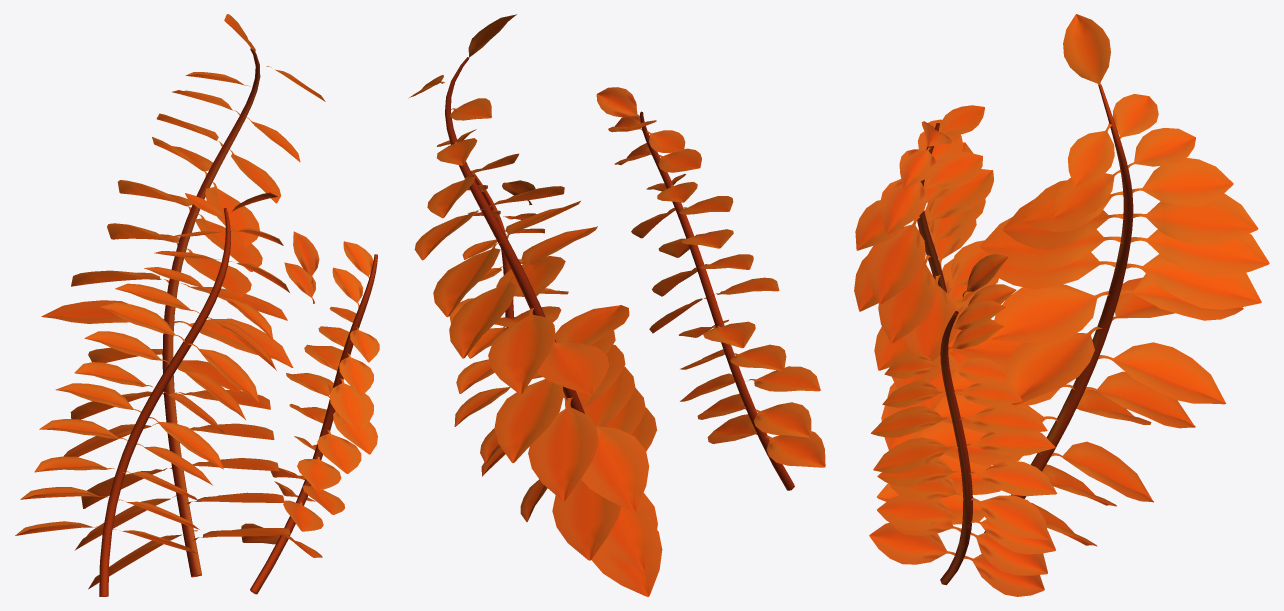
File: Plants_12.fbx
3 views of the same model, side by side, from view 1: azimuth 30°, elevation 25°; view 2: azimuth 150°, elevation 25°; view 3: azimuth 270°, elevation 25° (orthographic). The views are drawn at different scales.
Visible parts, largest first — view 1: Plane.005; view 2: Plane.005; view 3: Plane.005.
Boxes of the visible parts, bbox=[...] form: Plane.005: bbox=[15, 14, 379, 596]; Plane.005: bbox=[408, 14, 825, 596]; Plane.005: bbox=[854, 14, 1269, 596].
Size of the model in its own units: 2.31 by 3.31 by 2.07.
1 material, 1 textured.
